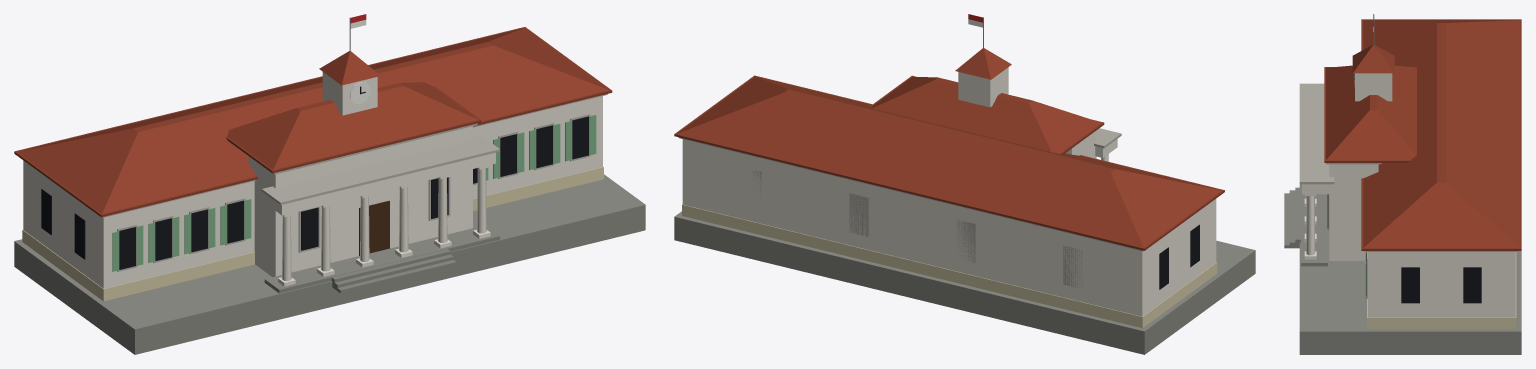
Rendered from balai_kota.glb.
3 renders of one model, left to right at view 1: azimuth 30°, elevation 25°; view 2: azimuth 150°, elevation 25°; view 3: azimuth 270°, elevation 25°, orthographic. The views are drawn at different scales.
Parts seen in each view (by area): view 1: body; view 2: body; view 3: body.
Part boxes in pixels (<box>): body: <box>14,14,645,354</box>; body: <box>674,14,1255,354</box>; body: <box>1284,14,1521,354</box>.
Bounding box in the file's own units: 44 × 20.2 × 19.25.
1 material, 1 textured.
